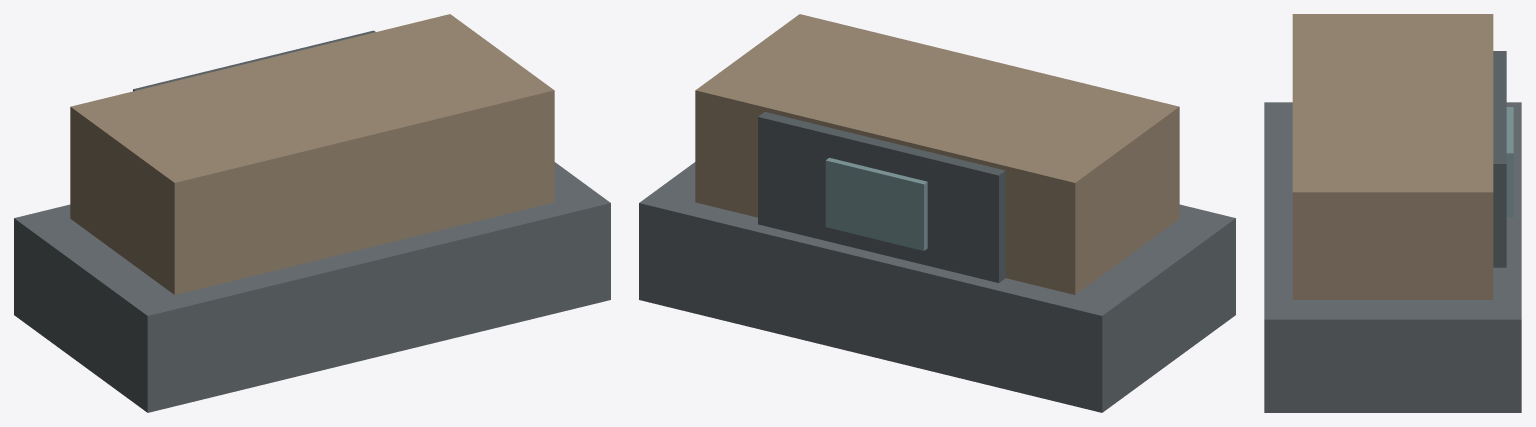
The model's file is iz3_school_cafetable_02.glb.
3 views of the same model, side by side, from view 1: azimuth 30°, elevation 25°; view 2: azimuth 150°, elevation 25°; view 3: azimuth 270°, elevation 25° (orthographic). The views are drawn at different scales.
Parts seen in each view (by area): view 1: cabinet, base, panel; view 2: base, cabinet, panel, display; view 3: cabinet, base, panel, display.
Boxes of the visible parts, <box> form: cabinet: <box>70,14,554,294</box>; base: <box>14,162,610,412</box>; panel: <box>133,30,375,91</box>; base: <box>639,162,1235,412</box>; cabinet: <box>695,14,1179,294</box>; panel: <box>758,112,1005,282</box>; display: <box>825,157,927,250</box>; cabinet: <box>1292,14,1493,299</box>; base: <box>1264,102,1521,412</box>; panel: <box>1493,51,1506,267</box>; display: <box>1506,107,1513,217</box>.
Size of the model in its own units: 1.6 by 0.69 by 0.8.
